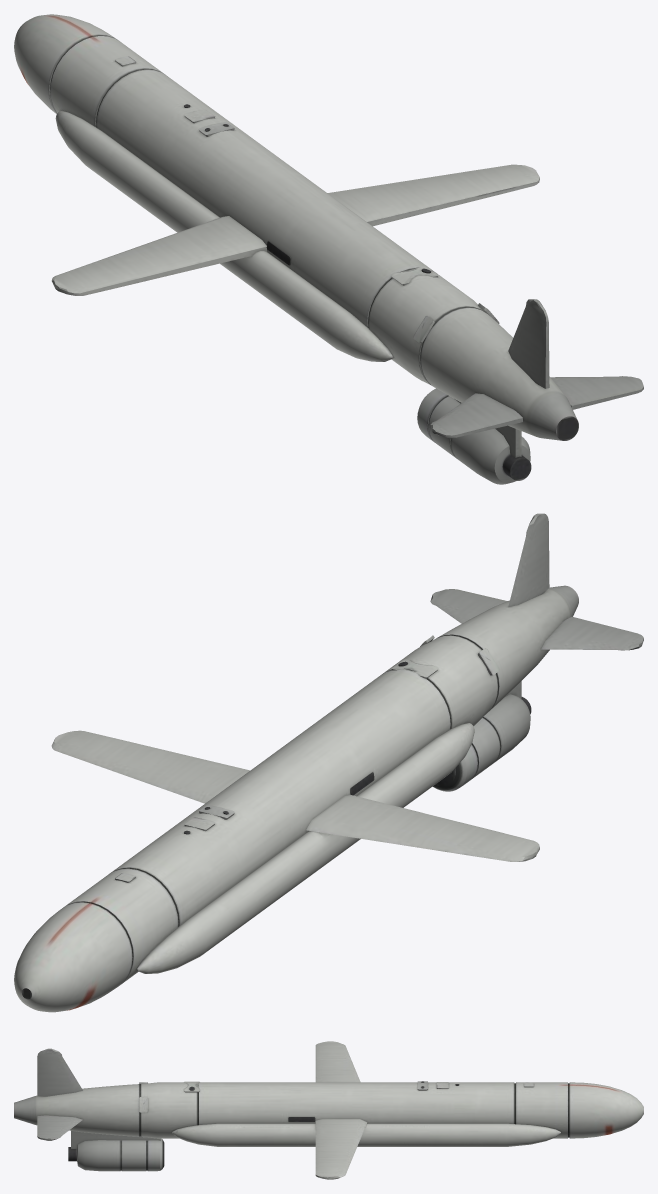
The picture shows the model from 3 angles, top to bottom: view 1: azimuth 30°, elevation 25°; view 2: azimuth 150°, elevation 25°; view 3: azimuth 270°, elevation 25°; orthographic projection. The views are drawn at different scales.
Parts seen in each view (by area): view 1: body|K55_body, body|K55_wing, body|K55_ctrl, body|K55_dark; view 2: body|K55_body, body|K55_wing, body|K55_ctrl, body|K55_dark; view 3: body|K55_body, body|K55_ctrl, body|K55_wing, body|K55_dark.
Boxes of the visible parts, x1,y1,x2,y2 form: body|K55_body: (14,14,564,436); body|K55_wing: (51,56,539,343); body|K55_ctrl: (198,122,643,484); body|K55_dark: (49,35,578,480); body|K55_body: (14,589,570,1012); body|K55_wing: (51,635,539,882); body|K55_ctrl: (198,513,643,819); body|K55_dark: (21,634,531,999); body|K55_body: (36,1082,643,1146); body|K55_ctrl: (14,1048,427,1171); body|K55_wing: (139,1041,533,1179); body|K55_dark: (68,1081,569,1170).
Size of the model in its own units: 3.08 by 1.27 by 6.04.
Materials: 4 (4 with a texture image).
